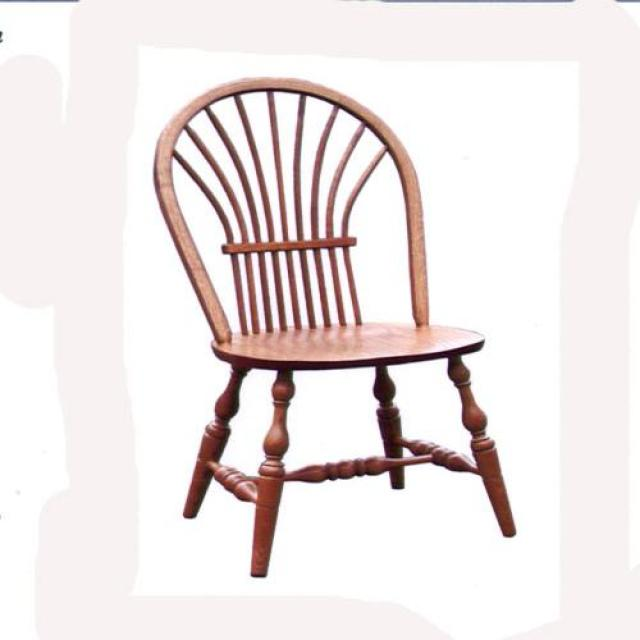chair: (155, 79, 516, 579)
